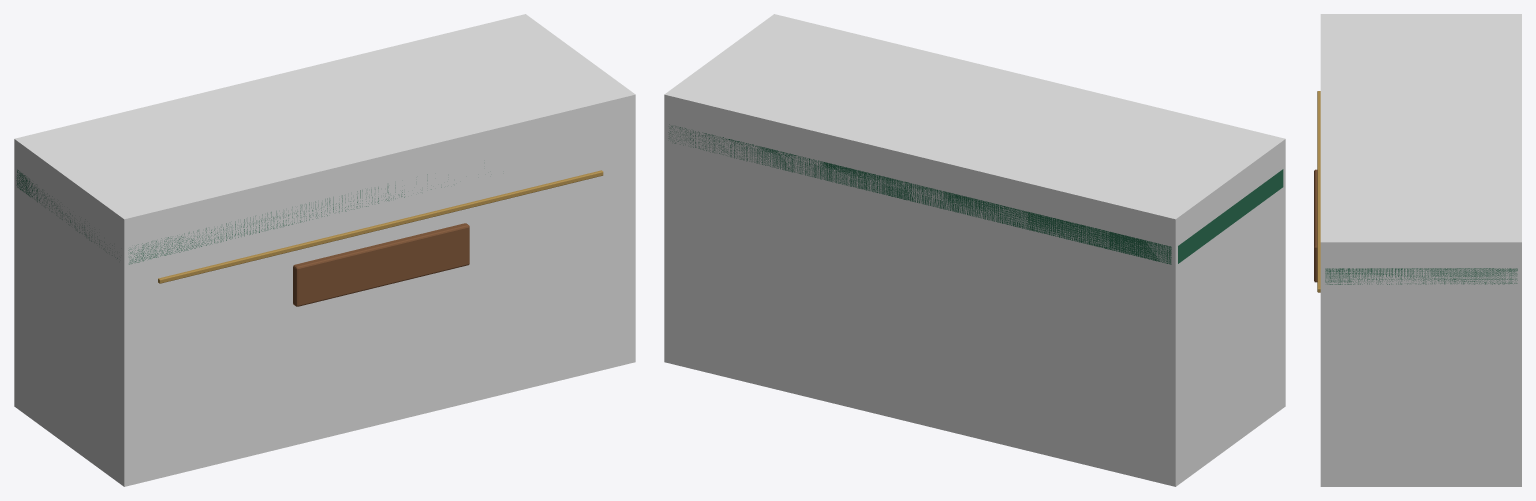
Rendered from reception-desk_boutique.glb.
3 views of the same model, side by side, from view 1: azimuth 30°, elevation 25°; view 2: azimuth 150°, elevation 25°; view 3: azimuth 270°, elevation 25° (orthographic). The views are drawn at different scales.
Visible parts, largest first — view 1: COL_reception-desk, MESH_ServiceScreen, MESH_TierTrim_01, MESH_Worktop; view 2: COL_reception-desk, MESH_Worktop; view 3: COL_reception-desk, MESH_Worktop, MESH_TierTrim_01, MESH_ServiceScreen.
Part boxes in pixels (x1,y1,x2,y2): COL_reception-desk: [14, 14, 635, 486]; MESH_ServiceScreen: [293, 223, 469, 306]; MESH_TierTrim_01: [158, 170, 603, 283]; MESH_Worktop: [16, 169, 441, 264]; COL_reception-desk: [664, 14, 1285, 486]; MESH_Worktop: [668, 124, 1283, 264]; COL_reception-desk: [1320, 14, 1521, 486]; MESH_Worktop: [1325, 268, 1517, 284]; MESH_TierTrim_01: [1317, 91, 1320, 292]; MESH_ServiceScreen: [1314, 169, 1317, 282].
Bounding box in the file's own units: 2.2 × 1.1 × 0.8466.
